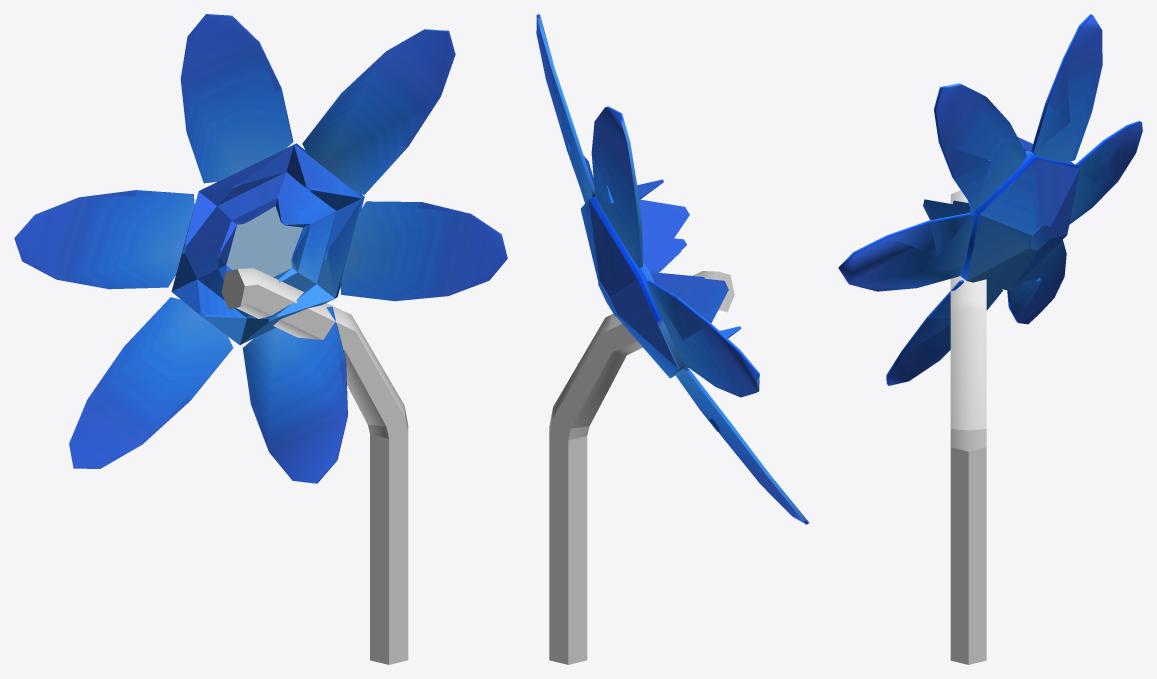
File: gentian_.fbx
3 views of the same model, side by side, from view 1: azimuth 30°, elevation 25°; view 2: azimuth 150°, elevation 25°; view 3: azimuth 270°, elevation 25° (orthographic). The views are drawn at different scales.
Visible parts, largest first — view 1: Petals, Stem, UpperStem; view 2: Petals, Stem, UpperStem; view 3: Petals, Stem, UpperStem.
Part boxes in pixels (x1=…): Petals: x1=14, y1=14, x2=507, y2=483; Stem: x1=368, y1=407, x2=408, y2=664; UpperStem: x1=221, y1=268, x2=404, y2=426; Petals: x1=536, y1=14, x2=809, y2=524; Stem: x1=549, y1=408, x2=589, y2=664; UpperStem: x1=552, y1=271, x2=734, y2=428; Petals: x1=838, y1=14, x2=1142, y2=385; Stem: x1=950, y1=429, x2=986, y2=664; UpperStem: x1=950, y1=190, x2=986, y2=430.
Size of the model in its own units: 17.67 by 31.29 by 14.66.
2 materials, 2 textured.
